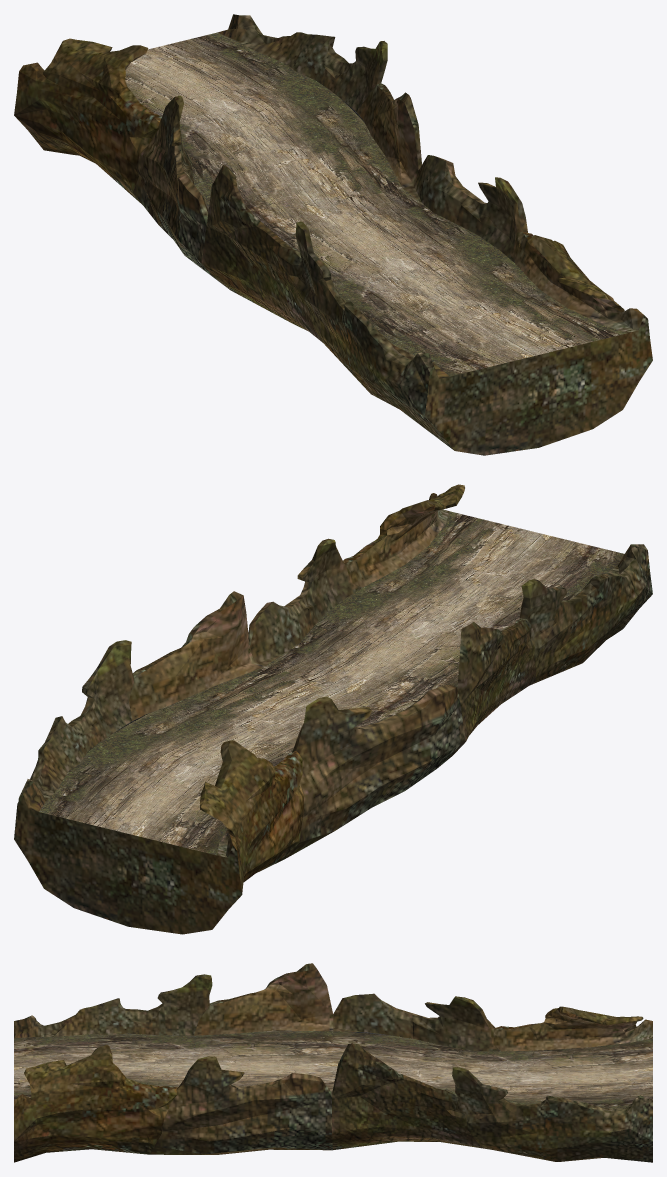
Rendered from bg_lut_lutomb_br01a_sm_esy.FBX.
The picture shows the model from 3 angles, top to bottom: view 1: azimuth 30°, elevation 25°; view 2: azimuth 150°, elevation 25°; view 3: azimuth 270°, elevation 25°; orthographic projection. The views are drawn at different scales.
Parts seen in each view (by area): view 1: bg_lut_lutomb_br01a_sm_esy; view 2: bg_lut_lutomb_br01a_sm_esy; view 3: bg_lut_lutomb_br01a_sm_esy.
Part boxes in pixels (left/top/right/bottom): bg_lut_lutomb_br01a_sm_esy: left=14, top=14, right=652, bottom=455; bg_lut_lutomb_br01a_sm_esy: left=14, top=484, right=652, bottom=934; bg_lut_lutomb_br01a_sm_esy: left=14, top=963, right=652, bottom=1162.
Bounding box in the file's own units: 394 × 237 × 1024.
